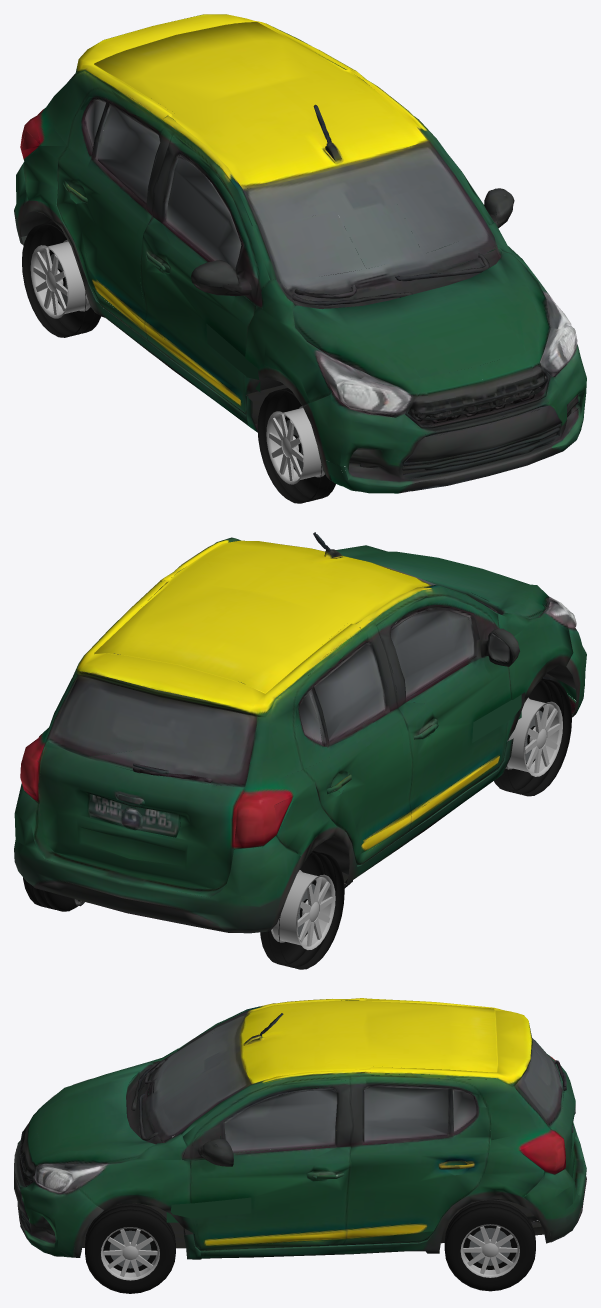
File: carro-0.glb
3 views of the same model, one above another, from view 1: azimuth 30°, elevation 25°; view 2: azimuth 150°, elevation 25°; view 3: azimuth 270°, elevation 25° (orthographic). The views are drawn at different scales.
Visible parts, largest first — view 1: Frota_car, Tyre_Rear_L, Tyre_Front_L; view 2: Frota_car, Tyre_Rear_L, Tyre_Front_L, Tyre_Rear_R; view 3: Frota_car, Tyre_Rear_R, Tyre_Front_R.
Boxes of the visible parts, <box> form: Frota_car: <box>14,14,586,493</box>; Tyre_Rear_L: <box>22,221,101,337</box>; Tyre_Front_L: <box>257,388,335,503</box>; Frota_car: <box>14,532,586,933</box>; Tyre_Rear_L: <box>260,850,344,969</box>; Tyre_Front_L: <box>494,678,571,796</box>; Tyre_Rear_R: <box>23,877,78,911</box>; Frota_car: <box>14,998,586,1259</box>; Tyre_Rear_R: <box>444,1200,535,1291</box>; Tyre_Front_R: <box>85,1203,175,1293</box>.
Size of the model in its own units: 2.14 by 1.87 by 4.2.
Materials: 1 (1 with a texture image).
